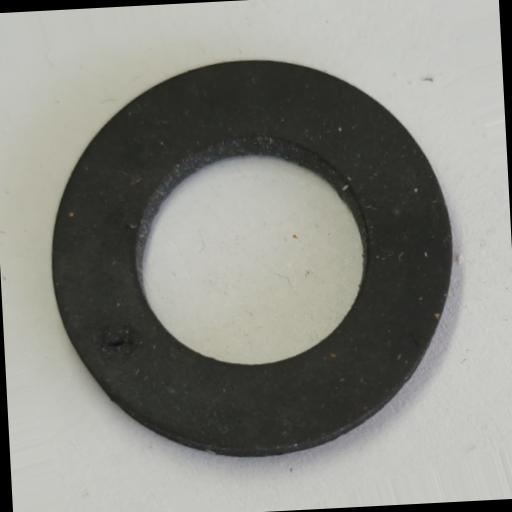defect: (100, 324, 141, 360)
